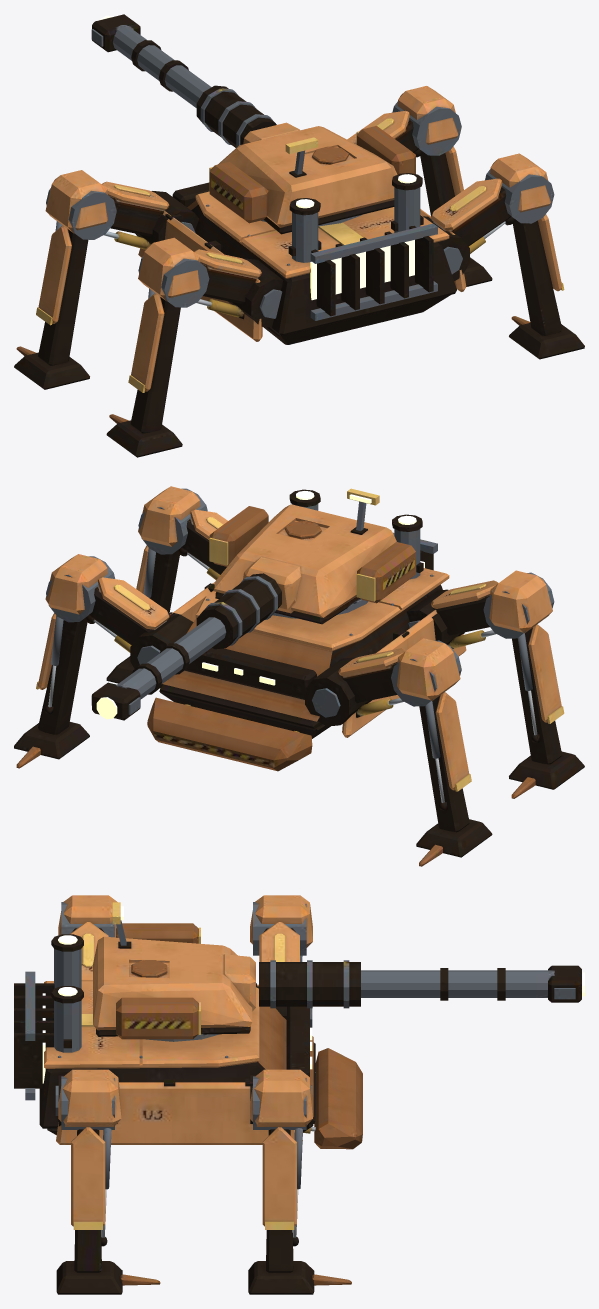
The model's file is bastion.glb.
3 renders of one model, top to bottom at view 1: azimuth 30°, elevation 25°; view 2: azimuth 150°, elevation 25°; view 3: azimuth 270°, elevation 25°, orthographic. The views are drawn at different scales.
Parts seen in each view (by area): view 1: hull|base|, turret|base|, kneeRL|base|, kneeFL|base|, rad|base|, gun|base|, kneeRR|base|, hipRL|base|, hipRR|base|, kneeFR|base|, hipFL|base|, turret|chip:15| (+9 smaller); view 2: hull|base|, turret|base|, gun|base|, kneeFL|base|, kneeRL|base|, hull|chip:8|, kneeFR|base|, hipFL|base|, hipFR|base|, hipRL|base|, kneeRR|base|, kneeRL|chip:59| (+8 smaller); view 3: hull|base|, gun|base|, turret|base|, hull|chip:3|, kneeFR|base|, kneeRR|base|, hull|chip:8|, rad|base|, turret|chip:17|, kneeRR|chip:70|, kneeFR|chip:48|, kneeFL|chip:37| (+5 smaller).
Part boxes in pixels (x1,y1,x2,y2): hull|base|: (165, 173, 456, 344); turret|base|: (209, 126, 397, 234); kneeRL|base|: (106, 256, 209, 457); kneeFL|base|: (14, 188, 116, 389); rad|base|: (310, 223, 437, 320); gun|base|: (91, 14, 299, 147); kneeRR|base|: (485, 169, 584, 359); hipRL|base|: (194, 249, 283, 327); hipRR|base|: (423, 178, 515, 281); kneeFR|base|: (392, 101, 492, 286); hipFL|base|: (101, 181, 198, 249); turret|chip:15|: (209, 161, 268, 223); hull|base|: (159, 489, 449, 738); turret|base|: (209, 504, 396, 624); gun|base|: (91, 557, 301, 720); kneeFL|base|: (391, 640, 492, 866); kneeRL|base|: (483, 572, 584, 798); hull|chip:8|: (147, 697, 312, 771); kneeFR|base|: (14, 556, 115, 768); hipFL|base|: (305, 648, 405, 726); hipFR|base|: (84, 577, 193, 668); hipRL|base|: (406, 580, 498, 648); kneeRR|base|: (106, 488, 207, 683); kneeRL|chip:59|: (489, 570, 552, 633); hull|base|: (39, 934, 315, 1134); gun|base|: (223, 954, 581, 1011); turret|base|: (93, 927, 252, 1041); hull|chip:3|: (56, 1082, 302, 1144); kneeFR|base|: (248, 1076, 351, 1294); kneeRR|base|: (56, 1076, 160, 1294); hull|chip:8|: (314, 1048, 362, 1149); rad|base|: (14, 971, 54, 1100); turret|chip:17|: (116, 997, 198, 1039); kneeRR|chip:70|: (58, 1069, 121, 1126); kneeFR|chip:48|: (250, 1069, 312, 1126); kneeFL|chip:37|: (250, 895, 312, 947).
Size of the model in its own units: 6.59 by 3.48 by 7.
4 materials, 1 textured.
